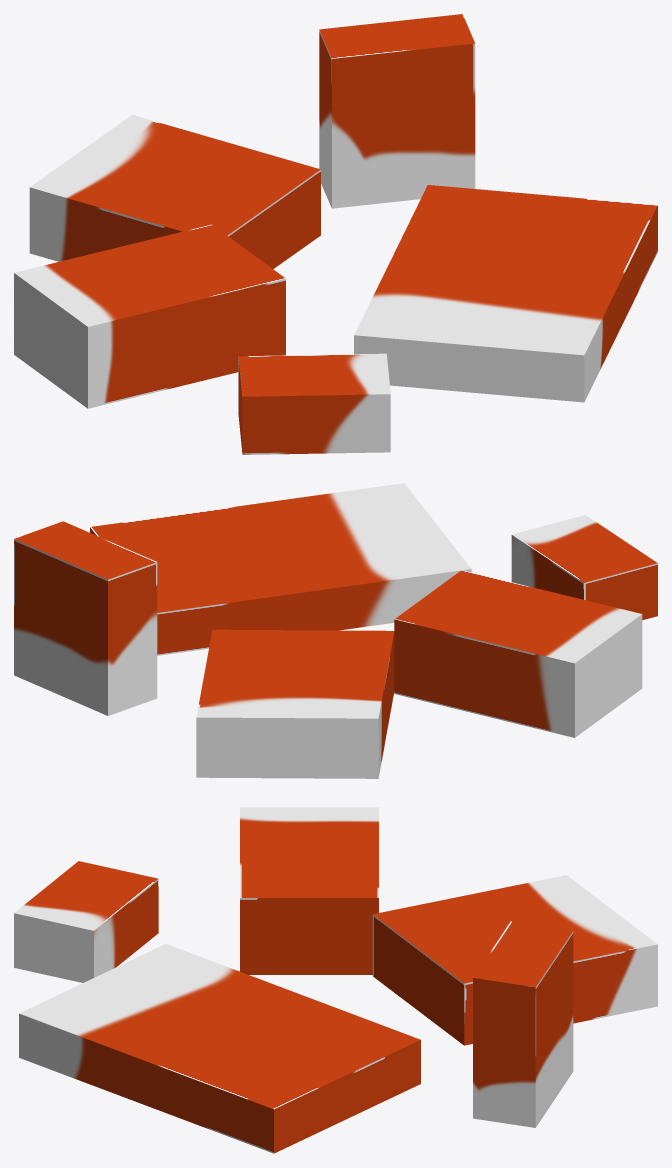
File: ChoppedMeat.fbx
The picture shows the model from 3 angles, top to bottom: view 1: azimuth 30°, elevation 25°; view 2: azimuth 150°, elevation 25°; view 3: azimuth 270°, elevation 25°; orthographic projection. The views are drawn at different scales.
Visible parts, largest first — view 1: Cube; view 2: Cube; view 3: Cube.
Boxes of the visible parts, bbox=[...] form: Cube: bbox=[14, 14, 657, 454]; Cube: bbox=[14, 483, 657, 778]; Cube: bbox=[14, 807, 657, 1153].
Bounding box in the file's own units: 7.68 × 7.61 × 1.85.
Materials: 1 (1 with a texture image).
